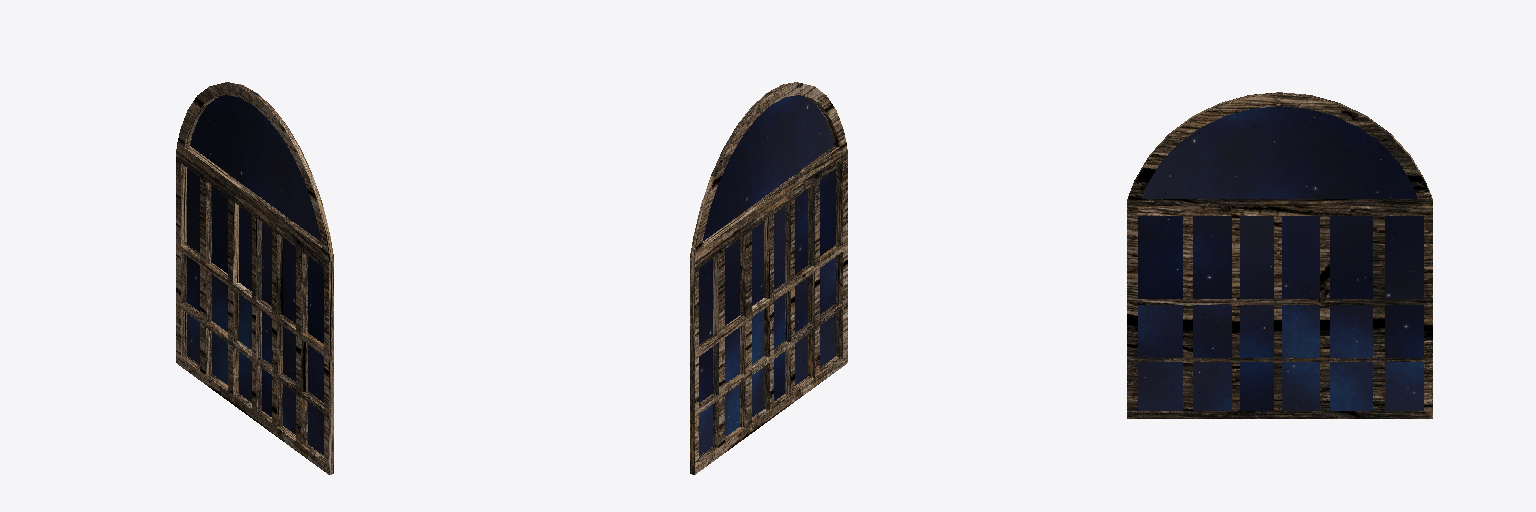
3 renders of one model, left to right at view 1: azimuth 30°, elevation 25°; view 2: azimuth 150°, elevation 25°; view 3: azimuth 270°, elevation 25°, orthographic.
Visible parts, largest first — view 1: Cube; view 2: Cube; view 3: Cube.
Part boxes in pixels (left/top/right/bottom): Cube: left=176, top=82, right=333, bottom=474; Cube: left=690, top=82, right=847, bottom=474; Cube: left=1127, top=92, right=1432, bottom=418.
Bounding box in the file's own units: 0.0922 × 4.38 × 3.73.
Materials: 1 (1 with a texture image).